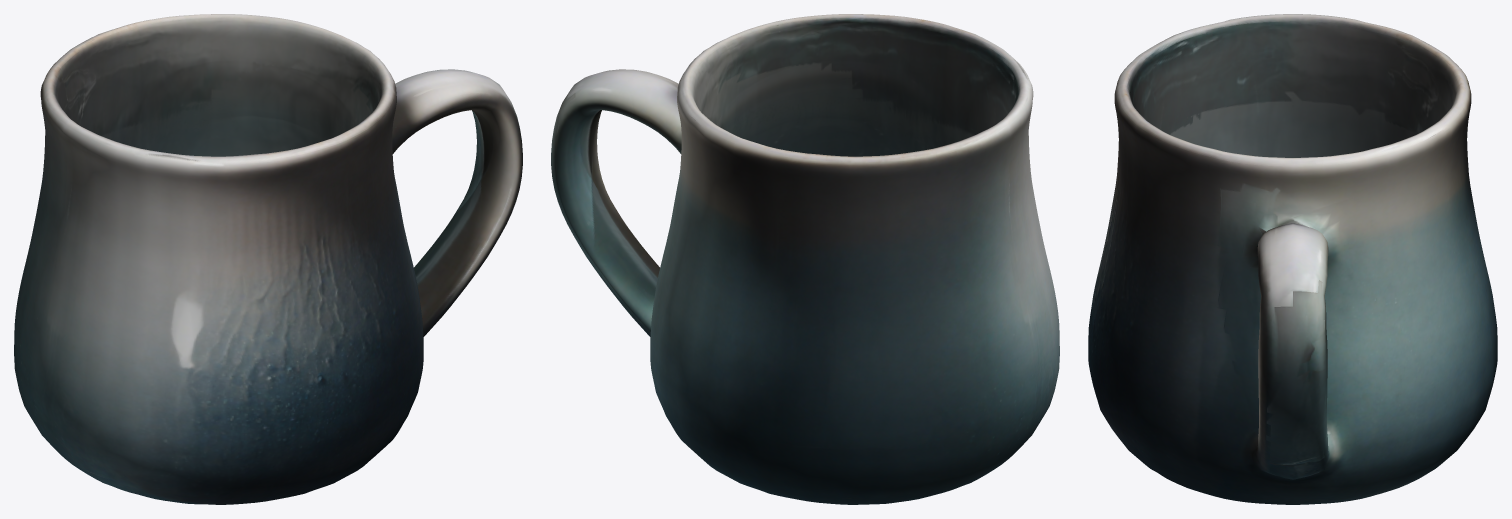
The model's file is mug_with_water_0113113721_texture.fbx.
The picture shows the model from 3 angles, left to right: view 1: azimuth 30°, elevation 25°; view 2: azimuth 150°, elevation 25°; view 3: azimuth 270°, elevation 25°; orthographic projection.
Visible parts, largest first — view 1: Mesh1_Mesh1.065; view 2: Mesh1_Mesh1.065; view 3: Mesh1_Mesh1.065.
Boxes of the visible parts, <box> form: Mesh1_Mesh1.065: <box>14,14,522,504</box>; Mesh1_Mesh1.065: <box>551,14,1059,504</box>; Mesh1_Mesh1.065: <box>1088,14,1497,504</box>.
Bounding box in the file's own units: 200 × 147 × 149.
Materials: 1 (1 with a texture image).
